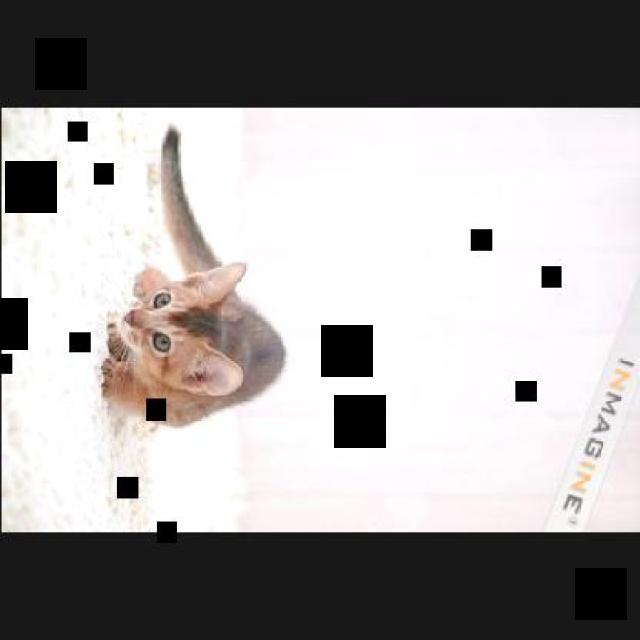unauthorized: (99, 123, 286, 428)
